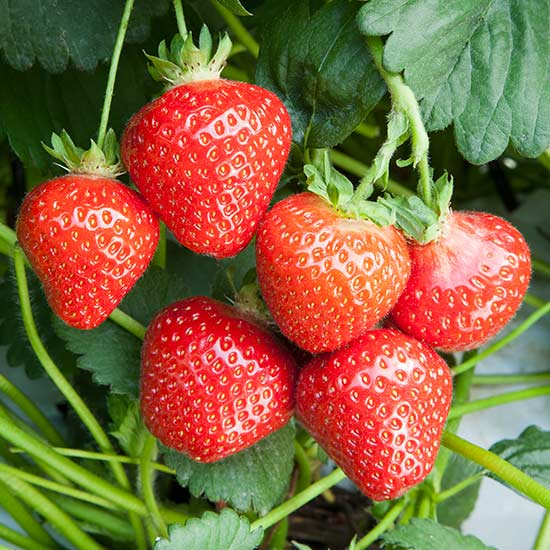ripe: (119, 63, 291, 264), (130, 279, 304, 473), (254, 172, 415, 363), (302, 326, 459, 507), (12, 161, 164, 337), (390, 202, 533, 372)
